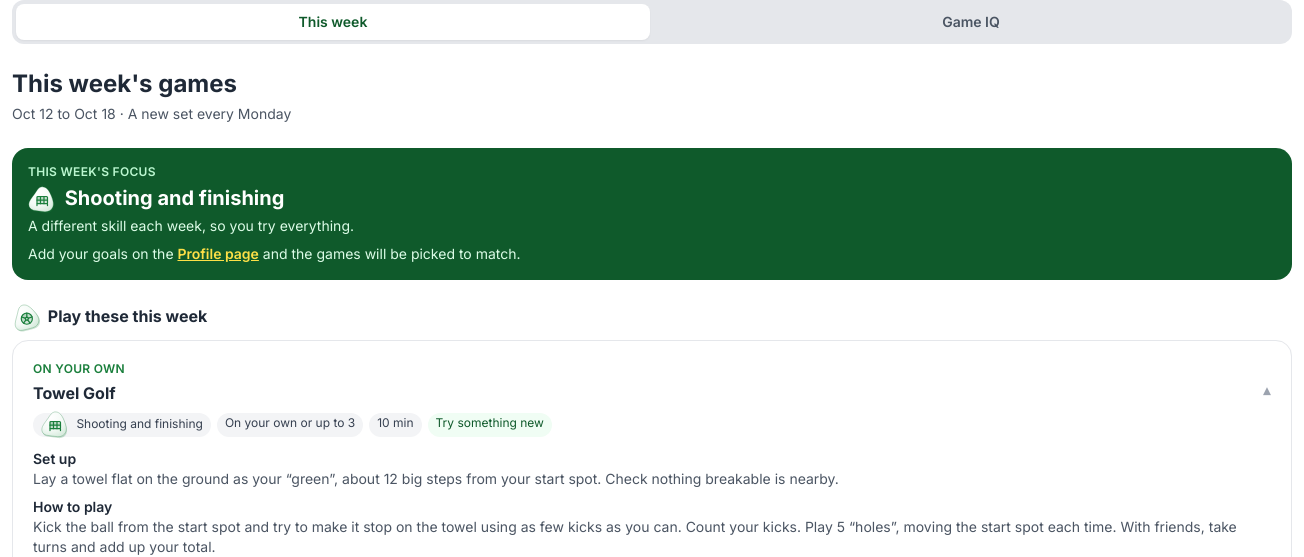
GamesHub › switches to the Game IQ rounds and back
The width and height of the screenshot is (1304, 557).
Click the tab "Game IQ".
click(971, 22)  # box [654,4,1288,40]
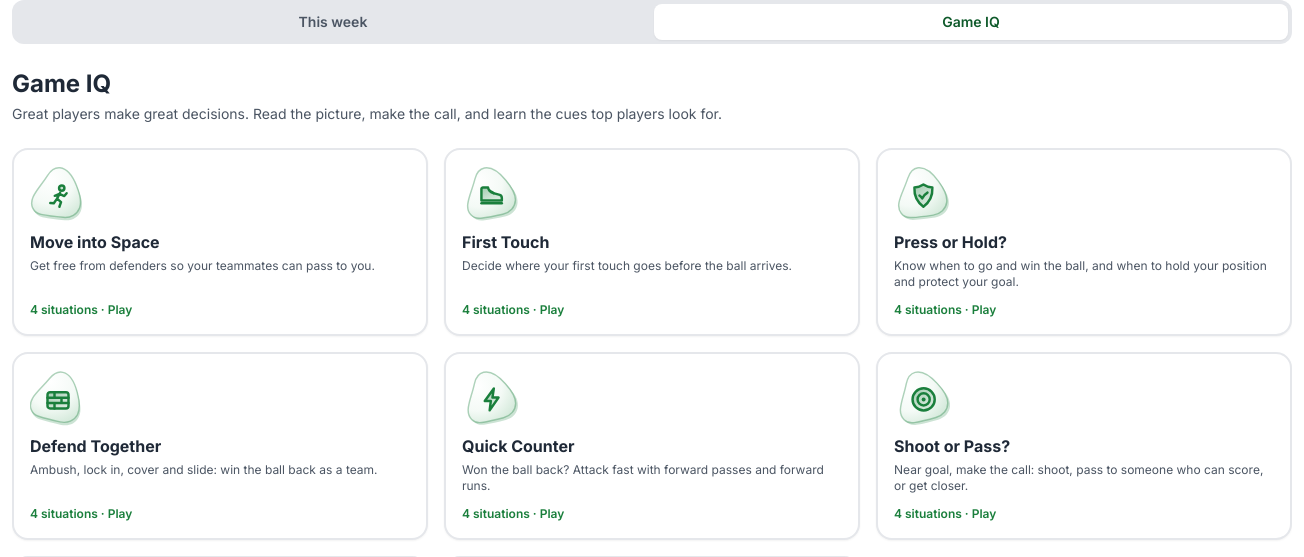
expect the heading "Game IQ" is shown: met, box [12,69,111,98]
expect the heading "This week.s games" is gone: met
Click the tab "This week".
click(333, 22)  # box [16,4,650,40]
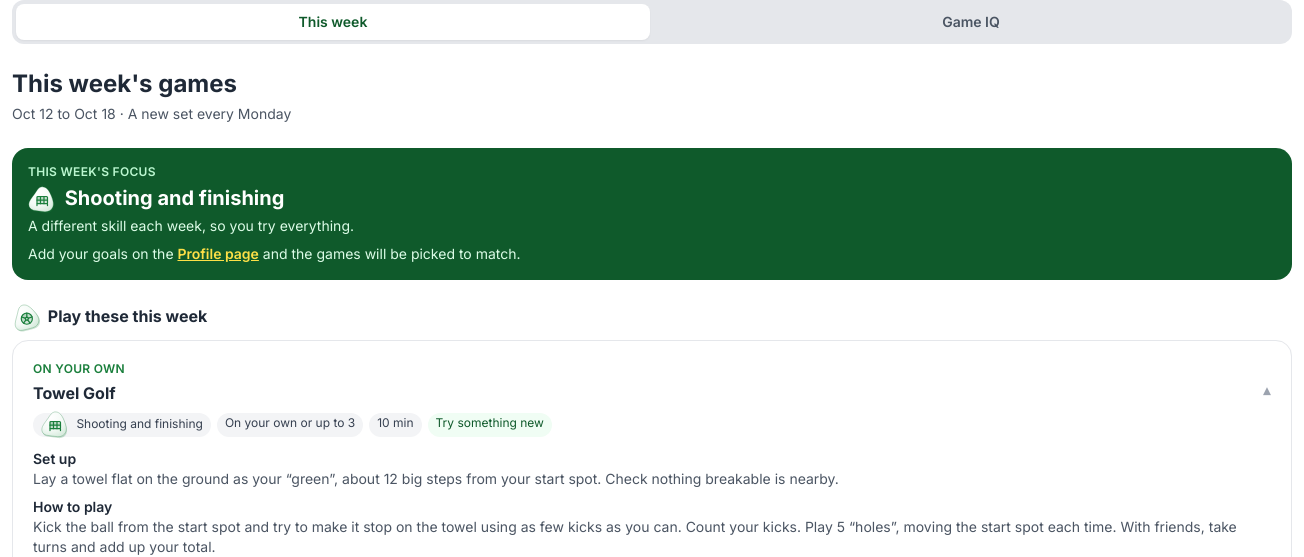
expect the heading "This week's games" is shown: met, box [12,69,237,98]
